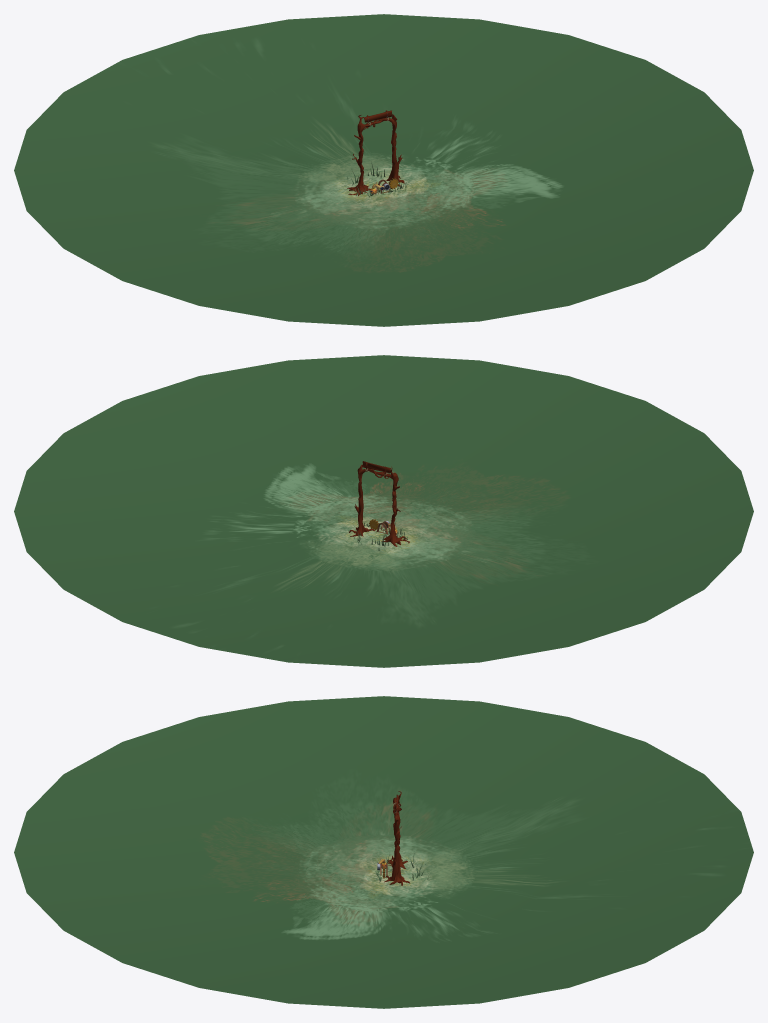
The model's file is frame.glb.
3 views of the same model, one above another, from view 1: azimuth 30°, elevation 25°; view 2: azimuth 150°, elevation 25°; view 3: azimuth 270°, elevation 25° (orthographic).
Parts seen in each view (by area): view 1: floor_fg, frame; view 2: floor_fg, frame; view 3: floor_fg, frame.
Part boxes in pixels (box(x1,y1,x2,y2)): floor_fg: box(14, 14, 753, 326); frame: box(347, 114, 404, 195); floor_fg: box(14, 355, 753, 667); frame: box(349, 465, 409, 546); floor_fg: box(14, 696, 753, 1008); frame: box(384, 791, 409, 885).
Size of the model in its own units: 16 by 1.87 by 16.
Materials: 6 (3 with a texture image).
